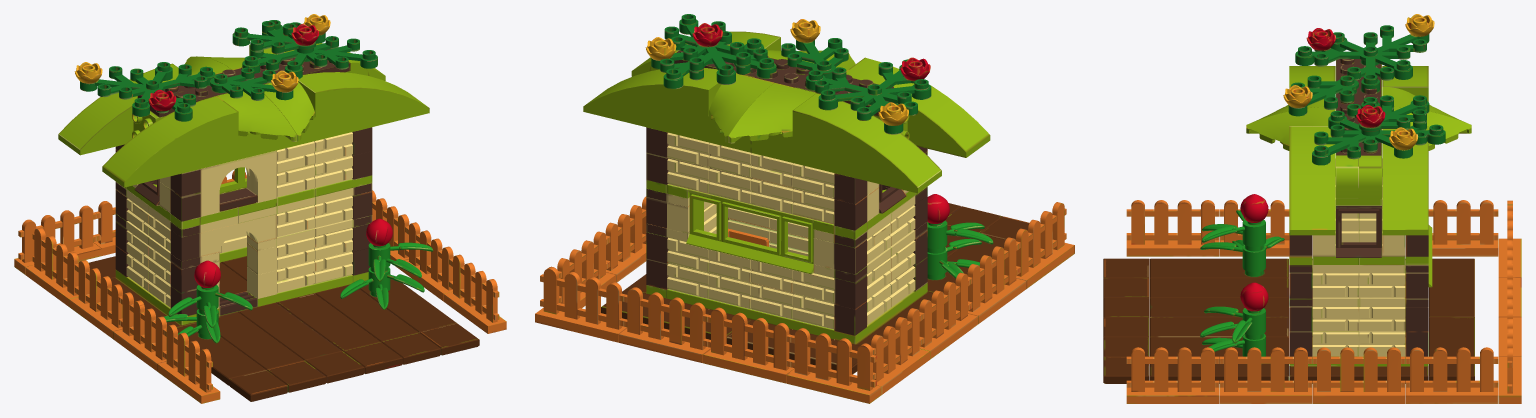
Rendered from Building_05.fbx.
3 views of the same model, side by side, from view 1: azimuth 30°, elevation 25°; view 2: azimuth 150°, elevation 25°; view 3: azimuth 270°, elevation 25° (orthographic). The views are drawn at different scales.
Parts seen in each view (by area): view 1: TM; view 2: TM; view 3: TM.
Boxes of the visible parts, <box> form: TM: <box>14,14,506,403</box>; TM: <box>535,14,1074,403</box>; TM: <box>1103,14,1521,403</box>.
Size of the model in its own units: 12792 by 9478 by 14392.
Materials: 1 (1 with a texture image).
